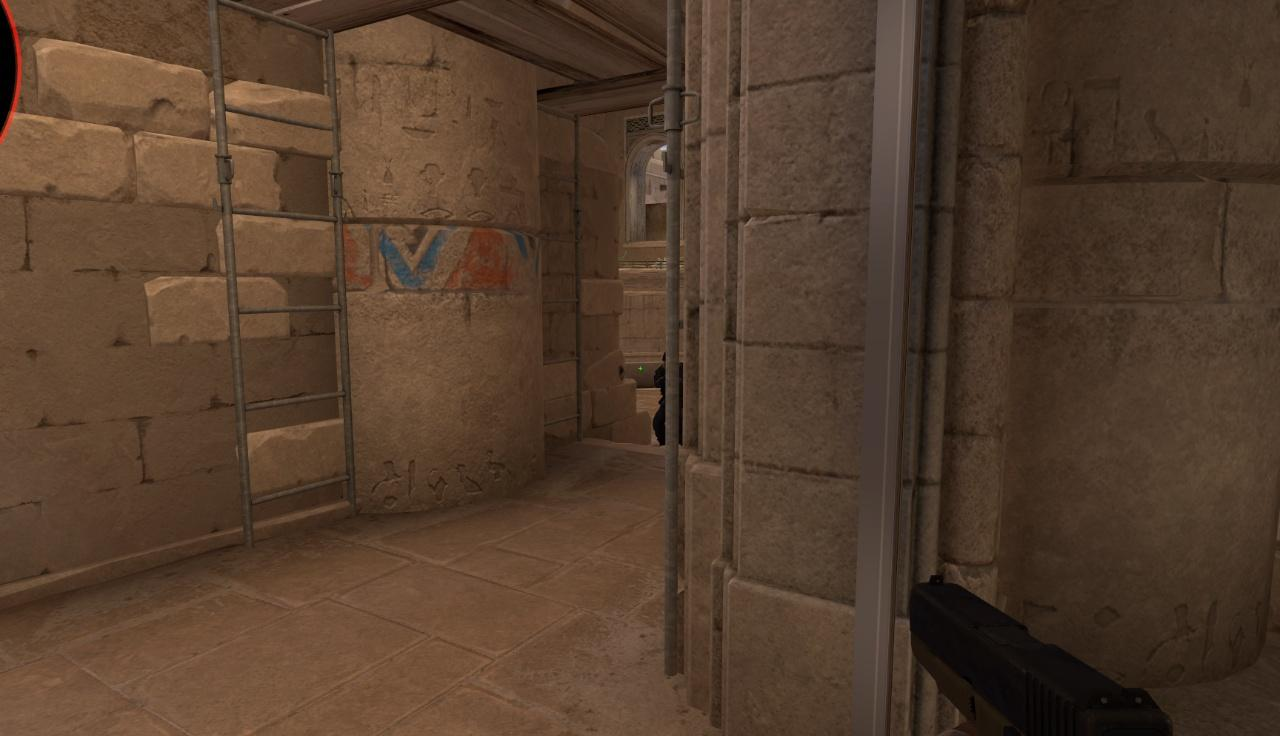ct: (652, 351, 666, 445)
pistol: (902, 575, 1171, 736)
